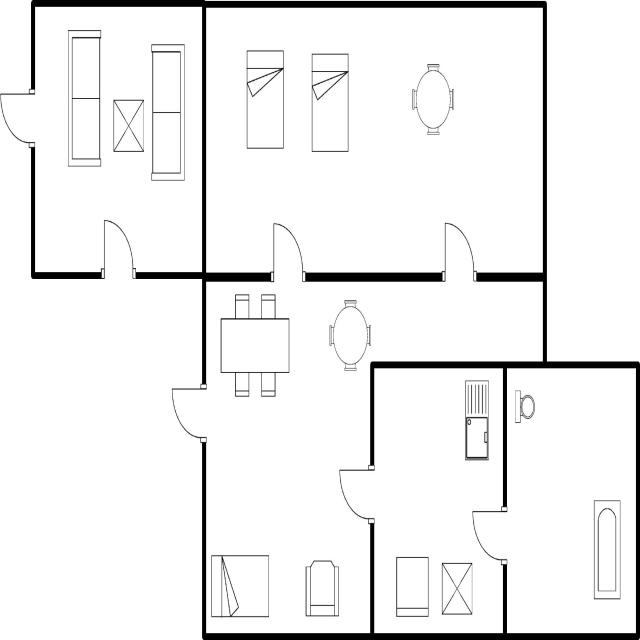armchair: (302, 554, 342, 622)
bed: (208, 548, 272, 624), (243, 47, 288, 154), (309, 48, 352, 159)
coffee_table: (438, 555, 478, 624), (110, 93, 145, 159)
dining_table: (217, 286, 293, 402)
large_sink: (511, 382, 538, 430)
large_sofa: (148, 37, 188, 188), (65, 23, 104, 172)
round_table: (407, 58, 457, 142), (327, 296, 372, 376)
sink: (461, 375, 492, 468)
small_sofa: (391, 550, 432, 622)
tub: (590, 494, 624, 606)
